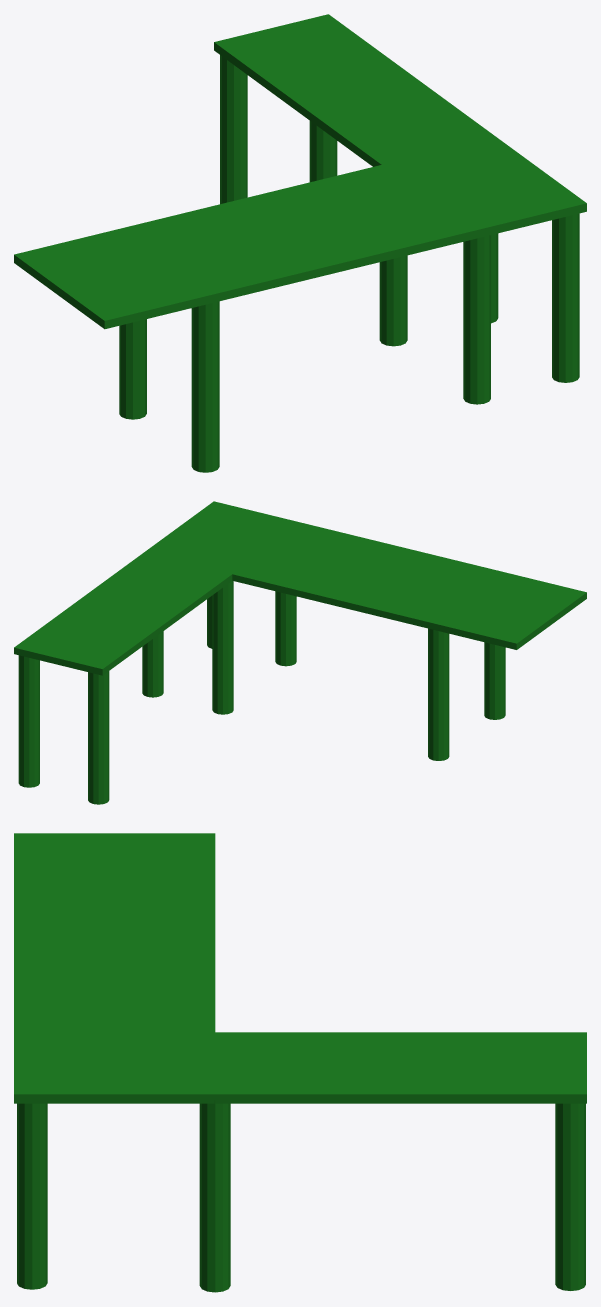
File: jetty.fbx
The picture shows the model from 3 angles, top to bottom: view 1: azimuth 30°, elevation 25°; view 2: azimuth 150°, elevation 25°; view 3: azimuth 270°, elevation 25°; orthographic projection. The views are drawn at different scales.
Parts seen in each view (by area): view 1: Cube, Cube.074; view 2: Cube, Cube.074; view 3: Cube, Cube.074.
Part boxes in pixels (x1=…): Cube: x1=14, y1=14, x2=586, y2=329; Cube.074: x1=119, y1=55, x2=579, y2=472; Cube: x1=14, y1=501, x2=586, y2=675; Cube.074: x1=18, y1=581, x2=505, y2=804; Cube: x1=14, y1=833, x2=586, y2=1103; Cube.074: x1=17, y1=1100, x2=585, y2=1292.
Bounding box in the file's own units: 3510 × 1248 × 3257.
